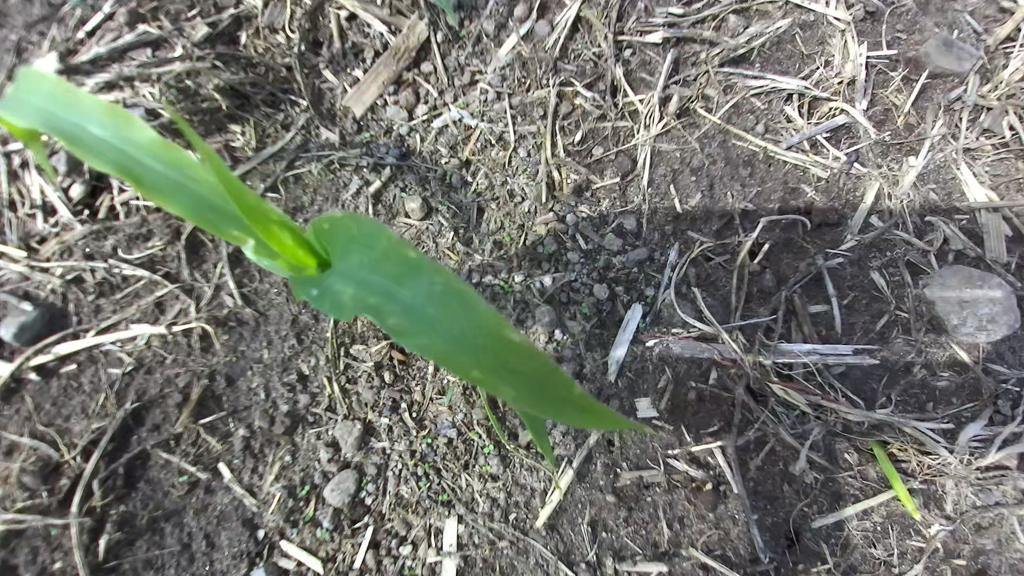BroWeed: (296, 492, 321, 530), (432, 384, 461, 412), (280, 518, 300, 540), (414, 454, 433, 474), (297, 481, 313, 501), (497, 278, 514, 294), (314, 527, 331, 542), (417, 474, 429, 494), (47, 525, 60, 543), (176, 472, 189, 485), (437, 491, 450, 504), (482, 442, 496, 454), (468, 429, 481, 441), (401, 566, 415, 576), (363, 129, 376, 139), (542, 244, 553, 255), (502, 229, 511, 242), (580, 301, 589, 314), (420, 437, 432, 445), (481, 465, 491, 472)
Maize: (0, 14, 672, 524)
NarWeed: (866, 438, 922, 521)
